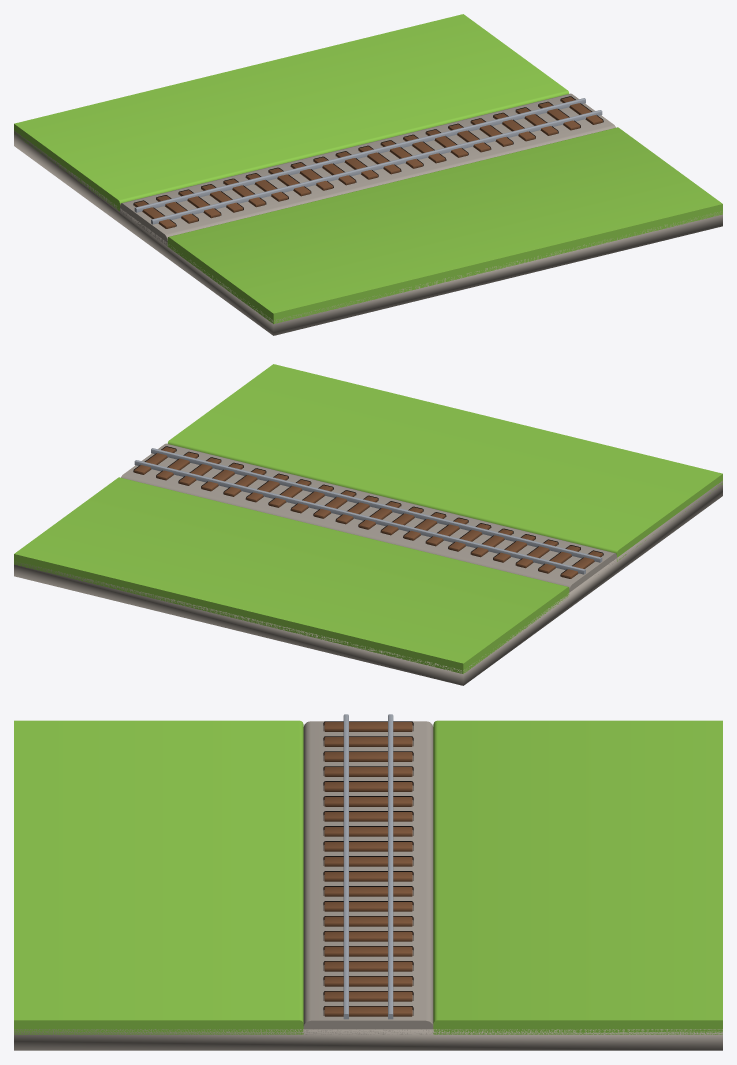
The model's file is Rail_Straight.fbx.
3 renders of one model, top to bottom at view 1: azimuth 30°, elevation 25°; view 2: azimuth 150°, elevation 25°; view 3: azimuth 270°, elevation 25°, orthographic. The views are drawn at different scales.
Parts seen in each view (by area): view 1: Tile_Rail_Straight_Grass, Tile_Rail_Straight_Gravel, Tile_Rail_Straight_Sleeper, Tile_Rail_Straight_RailMetal, Tile_Rail_Straight_Outline; view 2: Tile_Rail_Straight_Grass, Tile_Rail_Straight_Gravel, Tile_Rail_Straight_Sleeper, Tile_Rail_Straight_RailMetal, Tile_Rail_Straight_Outline; view 3: Tile_Rail_Straight_Grass, Tile_Rail_Straight_Gravel, Tile_Rail_Straight_Sleeper, Tile_Rail_Straight_RailMetal, Tile_Rail_Straight_Outline.
Part boxes in pixels (x1=…): Tile_Rail_Straight_Grass: x1=14, y1=14, x2=722, y2=323; Tile_Rail_Straight_Gravel: x1=14, y1=93, x2=722, y2=335; Tile_Rail_Straight_Sleeper: x1=134, y1=97, x2=602, y2=228; Tile_Rail_Straight_RailMetal: x1=134, y1=98, x2=602, y2=224; Tile_Rail_Straight_Outline: x1=133, y1=96, x2=603, y2=226; Tile_Rail_Straight_Grass: x1=14, y1=364, x2=722, y2=673; Tile_Rail_Straight_Gravel: x1=14, y1=443, x2=722, y2=685; Tile_Rail_Straight_Sleeper: x1=134, y1=447, x2=602, y2=578; Tile_Rail_Straight_RailMetal: x1=134, y1=448, x2=602, y2=574; Tile_Rail_Straight_Outline: x1=133, y1=446, x2=603, y2=576; Tile_Rail_Straight_Grass: x1=14, y1=720, x2=722, y2=1034; Tile_Rail_Straight_Gravel: x1=14, y1=721, x2=722, y2=1050; Tile_Rail_Straight_Sleeper: x1=324, y1=722, x2=412, y2=1016; Tile_Rail_Straight_RailMetal: x1=343, y1=714, x2=393, y2=1019; Tile_Rail_Straight_Outline: x1=323, y1=721, x2=413, y2=1015.
Bounding box in the file's own units: 24 × 1.38 × 24.
